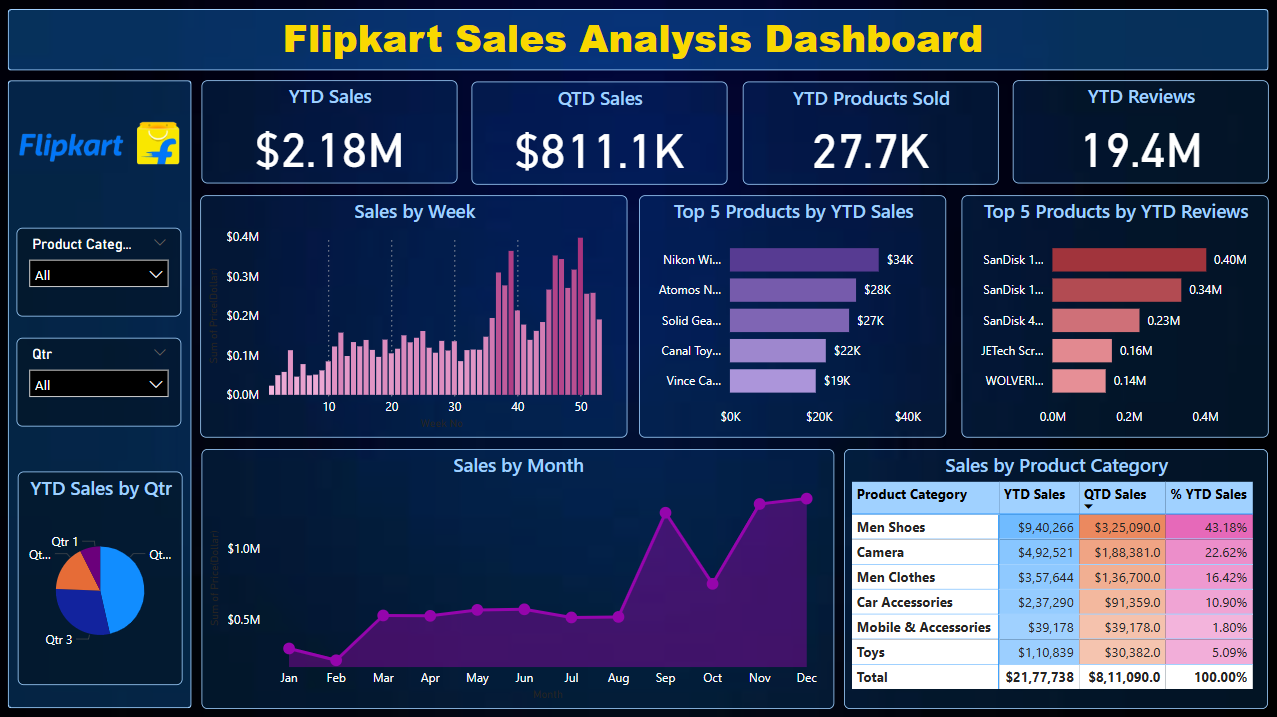

The page's visual inventory and layout, read from the dashboard file:
{"tool":"powerbi","page":{"name":"Page 1","canvas":[1280,720],"ordinal":0},"visuals":[{"type":"shape","box":[9.3,10.5,1260.5,61.6],"z":0},{"type":"shape","box":[9.3,81.4,183.7,627.9],"z":1000},{"type":"textbox","box":[279.1,7,758.1,65.1],"z":2000},{"type":"card","title":"YTD Sales","fields":{"Values":["Measures (2).YTD Sales"]},"box":[202.3,81.4,255.8,103.5],"z":3000},{"type":"card","title":"QTD Sales","fields":{"Values":["Measures (2).QTD Sales"]},"box":[472.9,82.6,255.8,103.5],"z":4000},{"type":"card","title":"YTD Products Sold","fields":{"Values":["Measures (2).YTD Product Sold"]},"box":[743.4,82.6,255.8,103.5],"z":5000},{"type":"card","title":"YTD Reviews","fields":{"Values":["Measures (2).YTD Reviews"]},"box":[1014,81.4,255.8,103.5],"z":6000},{"type":"areaChart","title":"Sales by Month","fields":{"Y":["Sum(Amazon_Data.Price(Dollar))"],"Category":["Date Table.Month"]},"box":[202.5,450,632.5,260],"z":7000},{"type":"columnChart","title":"Sales by Week ","fields":{"Category":["Date Table.Week No"],"Y":["Sum(Amazon_Data.Price(Dollar))"]},"box":[201.2,196.2,427.5,242.5],"z":8000},{"type":"pivotTable","title":"Sales by Product Category","fields":{"Rows":["Amazon_Data.Product Category"],"Values":["Measures (2).YTD Sales","Measures (2).QTD Sales","Divide(Measures (2).YTD Sales, ScopedEval(Measures (2).YTD Sales, []))"]},"box":[845,450,423.8,260],"z":9000},{"type":"clusteredBarChart","title":"Top 5 Products by YTD Sales","fields":{"Category":["Amazon_Data.Product Description"],"Y":["Measures (2).YTD Sales"]},"box":[640,196.2,307.5,242.5],"z":10000},{"type":"clusteredBarChart","title":"Top 5 Products by YTD Reviews","fields":{"Category":["Amazon_Data.Product Description"],"Y":["Measures (2).YTD Reviews"]},"box":[962.5,196.2,307.5,242.5],"z":11000},{"type":"slicer","title":"Top 5 Products by YTD Sales","fields":{"Values":["Amazon_Data.Product Category"]},"box":[17.5,228.8,165,88.8],"z":12000},{"type":"slicer","title":"Top 5 Products by YTD Sales","fields":{"Values":["Date Table.Qtr"]},"box":[17.5,338.8,165,88.8],"z":13000},{"type":"image","box":[8.8,52.5,183.8,183.8],"z":14000},{"type":"pieChart","fields":{"Y":["Measures (2).YTD Sales"],"Category":["Date Table.Qtr"]},"box":[18.8,472.5,165,213.8],"z":15000}]}

Visuals, with their boxes in screenshot pixels (x1, y1, x2, y2), scaled from the page's 1280x720 canvas onto the 1277x717 screenshot:
shape: select_region(9, 10, 1267, 72)
shape: select_region(9, 81, 193, 706)
textbox: select_region(278, 7, 1035, 72)
"YTD Sales" card: select_region(202, 81, 457, 184)
"QTD Sales" card: select_region(472, 82, 727, 185)
"YTD Products Sold" card: select_region(742, 82, 997, 185)
"YTD Reviews" card: select_region(1012, 81, 1267, 184)
"Sales by Month" areaChart: select_region(202, 448, 833, 707)
"Sales by Week " columnChart: select_region(201, 195, 627, 437)
"Sales by Product Category" pivotTable: select_region(843, 448, 1266, 707)
"Top 5 Products by YTD Sales" clusteredBarChart: select_region(638, 195, 945, 437)
"Top 5 Products by YTD Reviews" clusteredBarChart: select_region(960, 195, 1267, 437)
"Top 5 Products by YTD Sales" slicer: select_region(17, 228, 182, 316)
"Top 5 Products by YTD Sales" slicer: select_region(17, 337, 182, 426)
image: select_region(9, 52, 192, 235)
pieChart - Measures (2).YTD Sales x Date Table.Qtr: select_region(19, 471, 183, 683)
